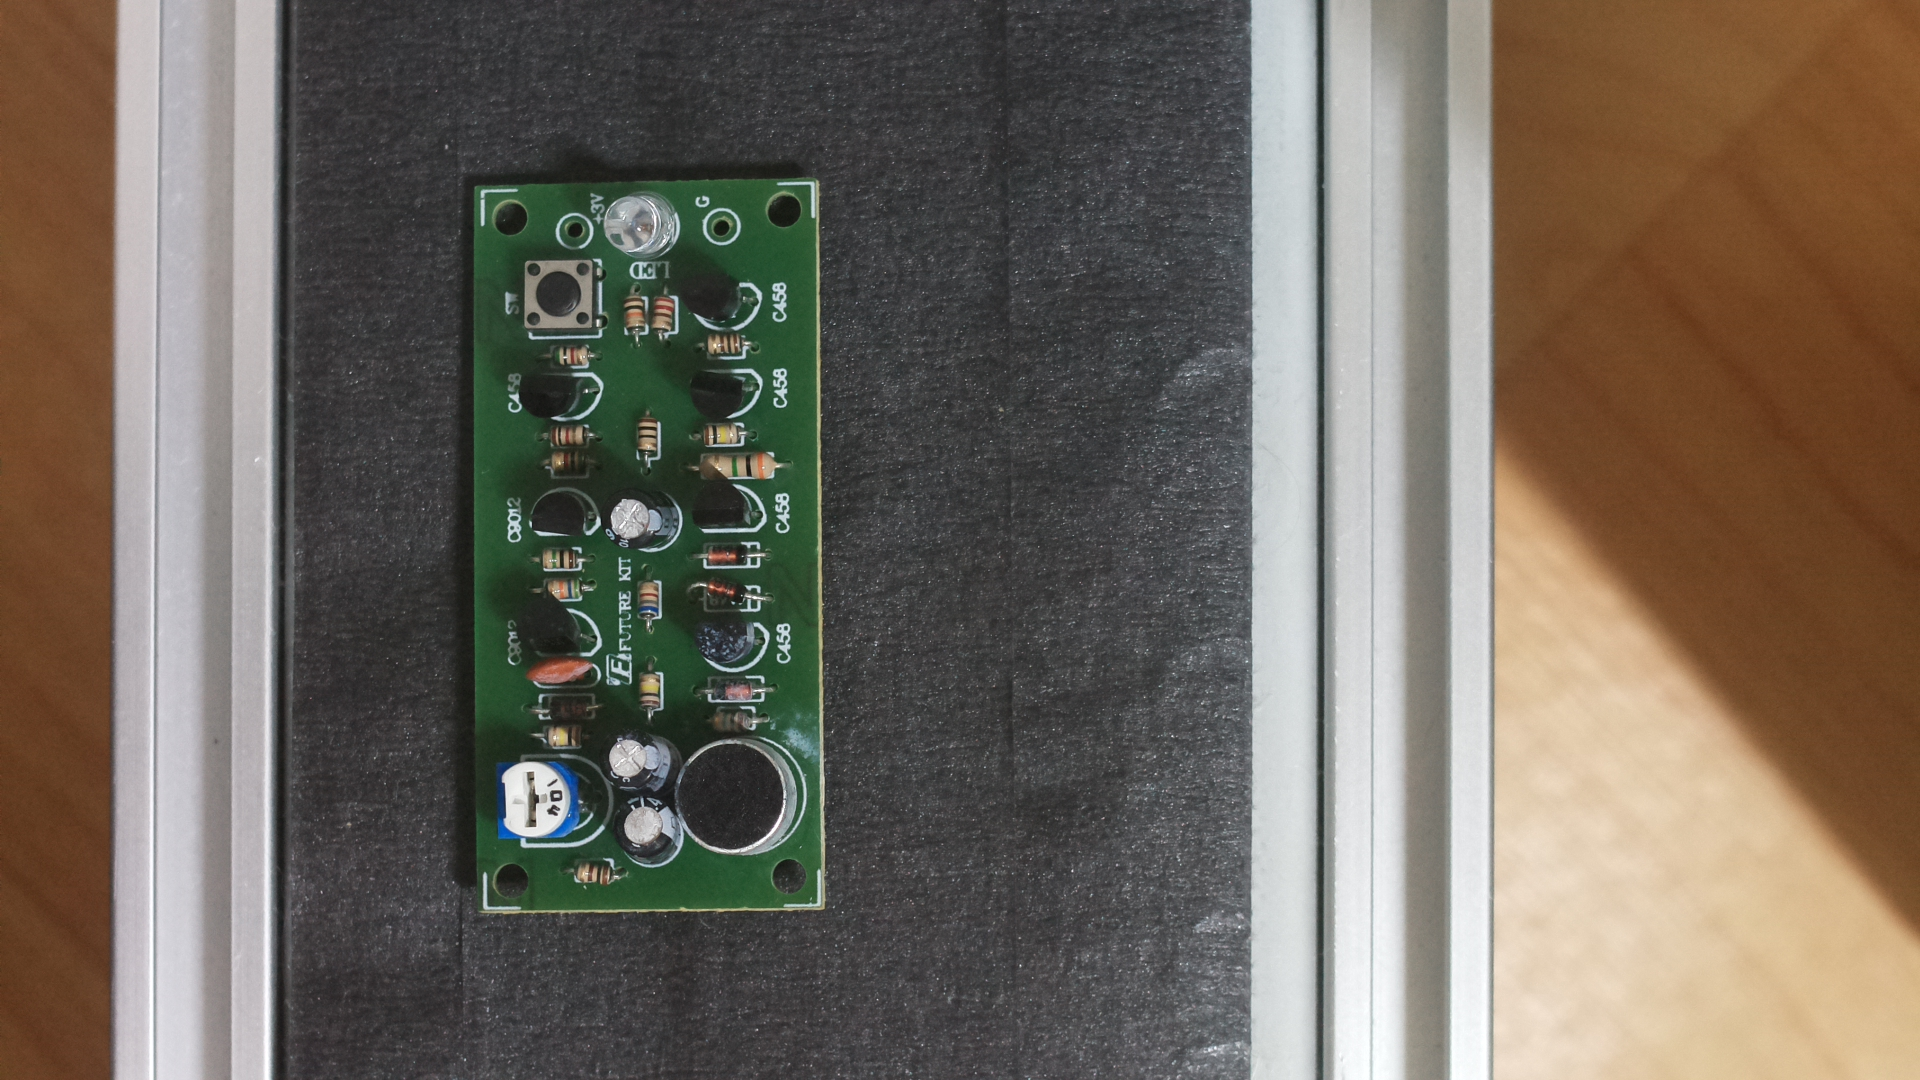A_Normal: (465, 160, 841, 934)
